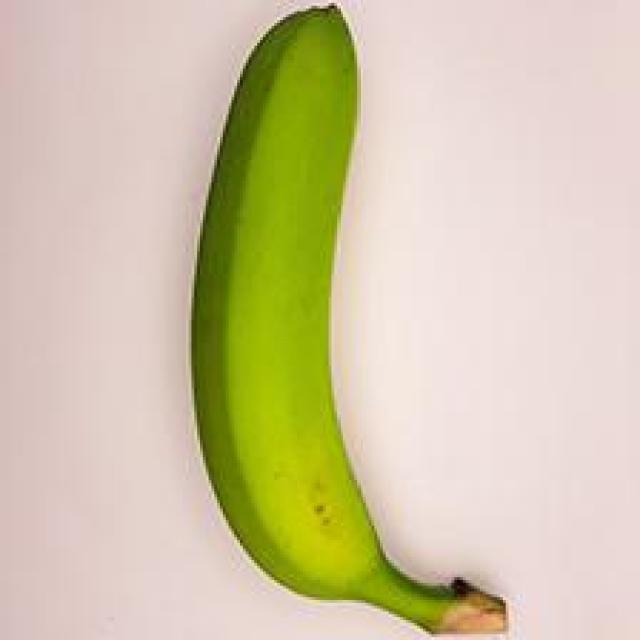unripe: (135, 0, 534, 640)
